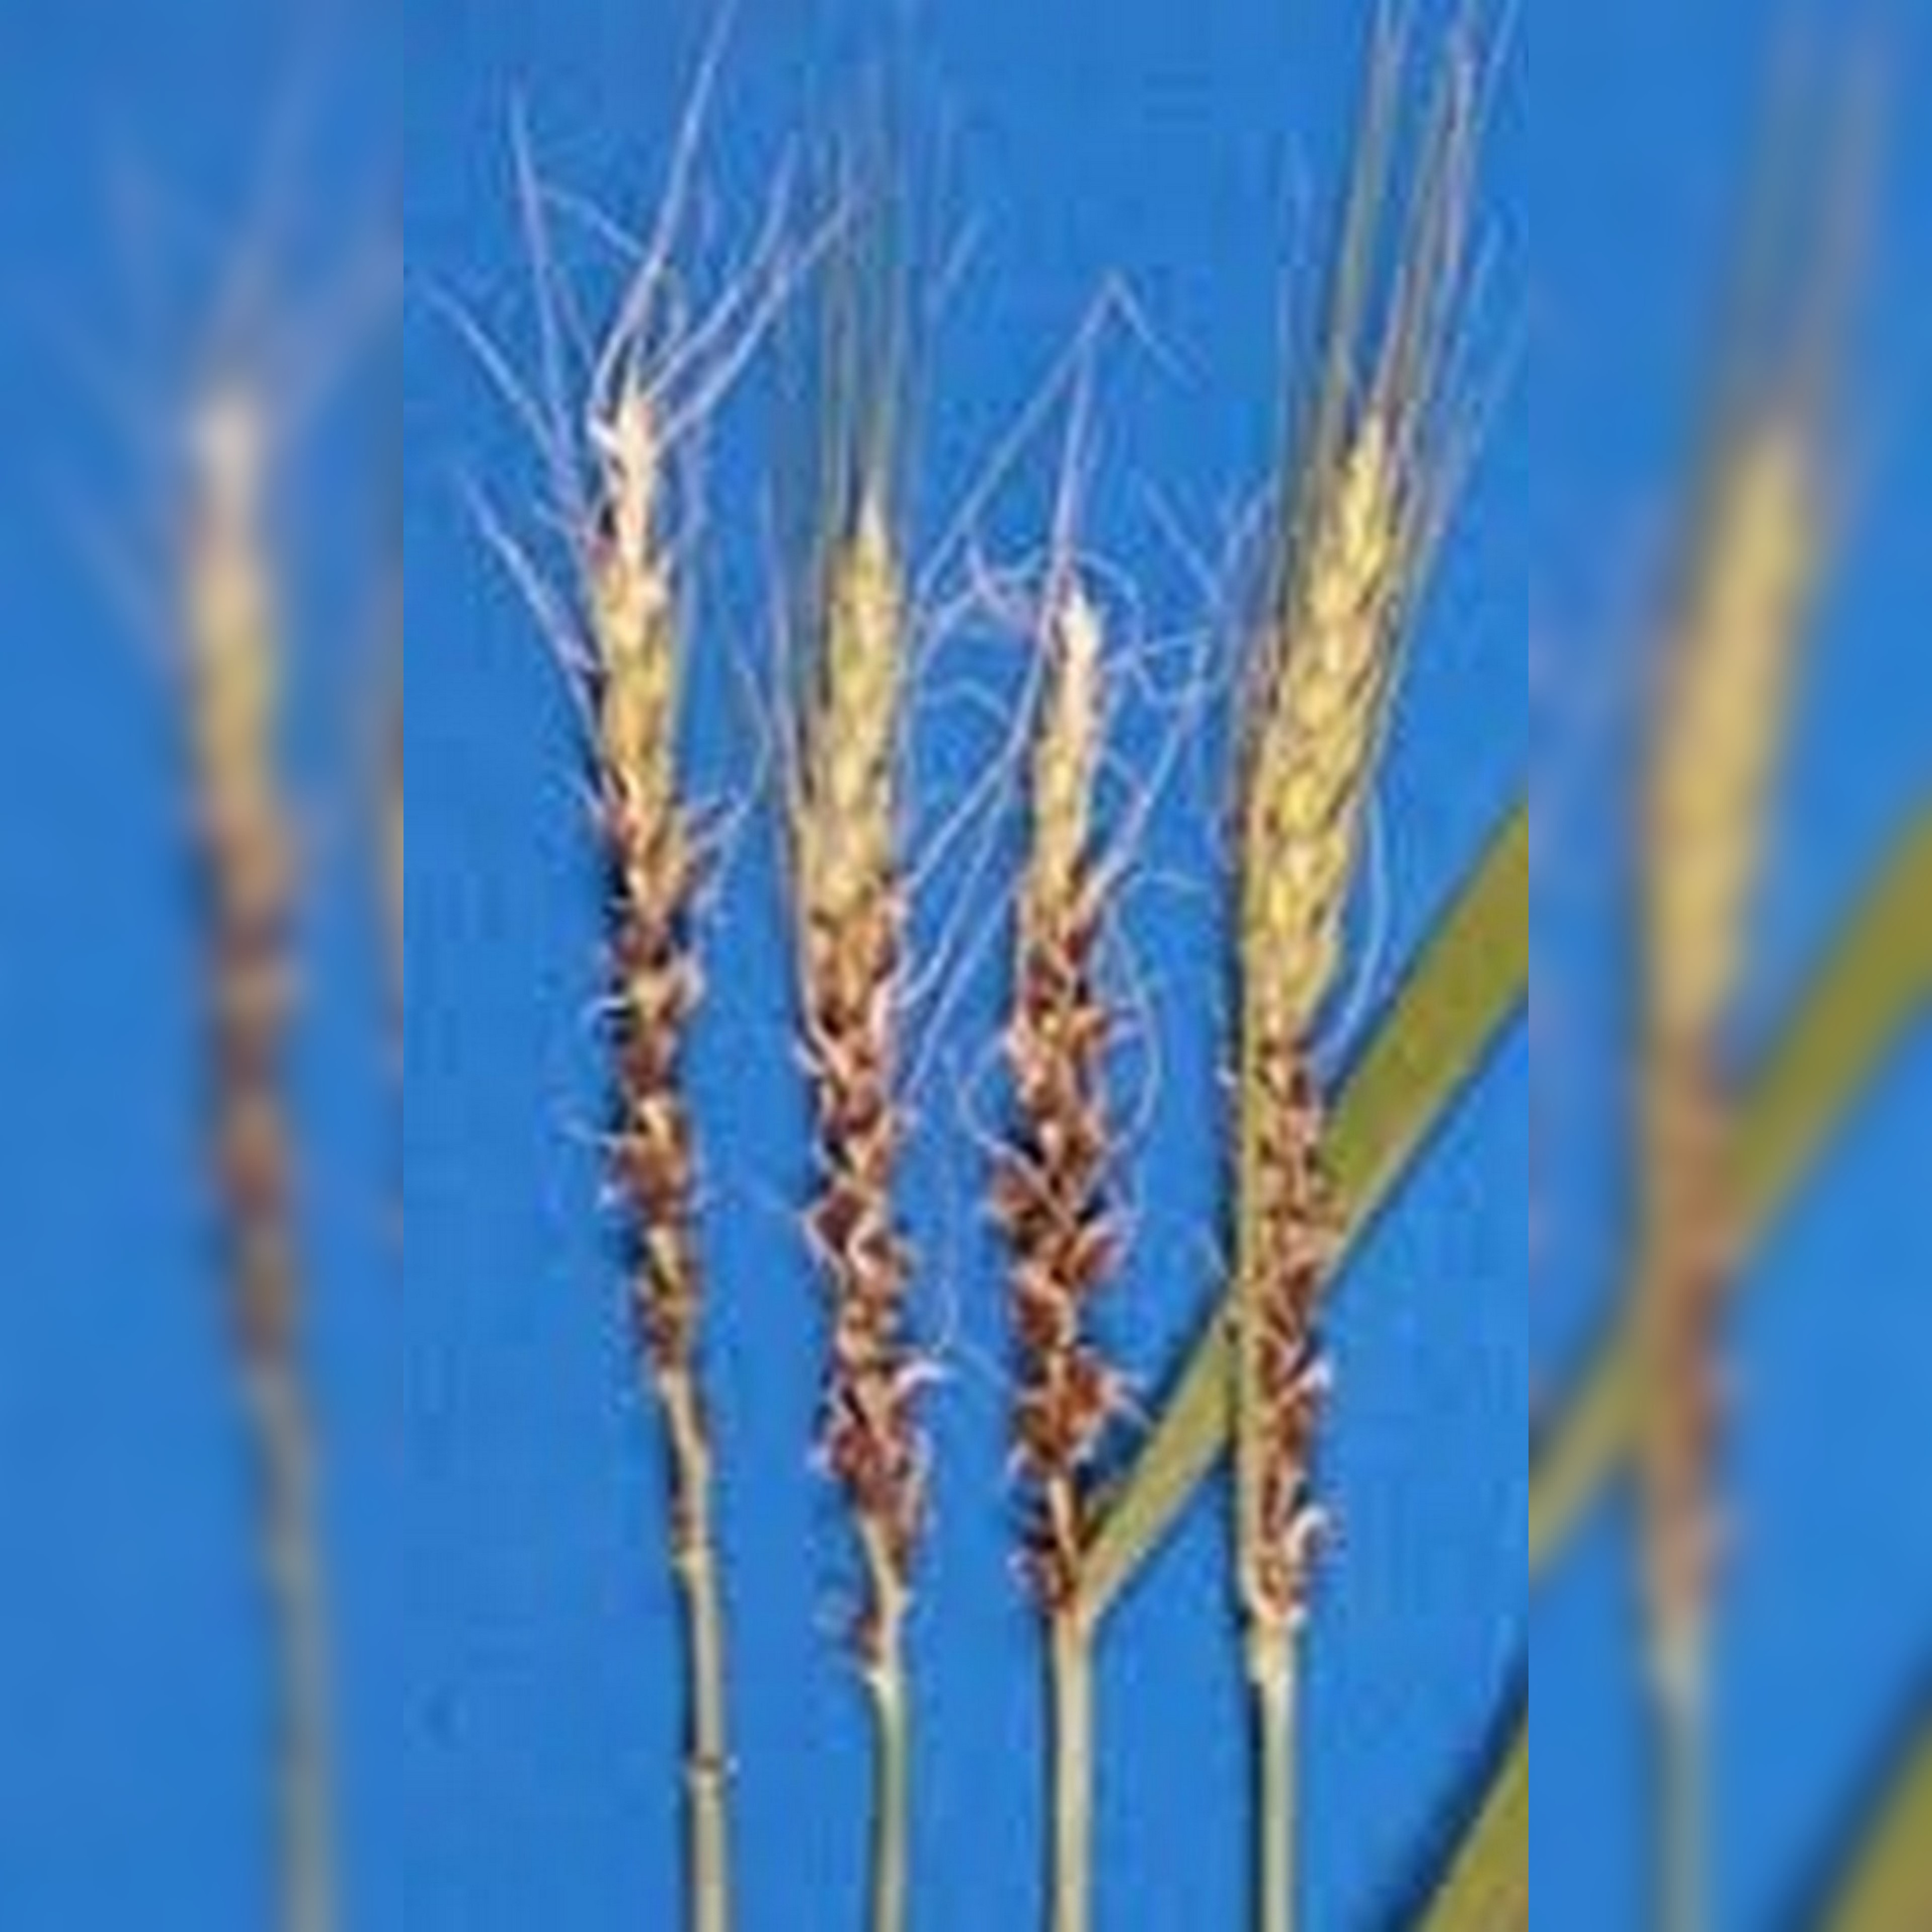Wheat Loose Smut: (492, 545, 1424, 1637)
